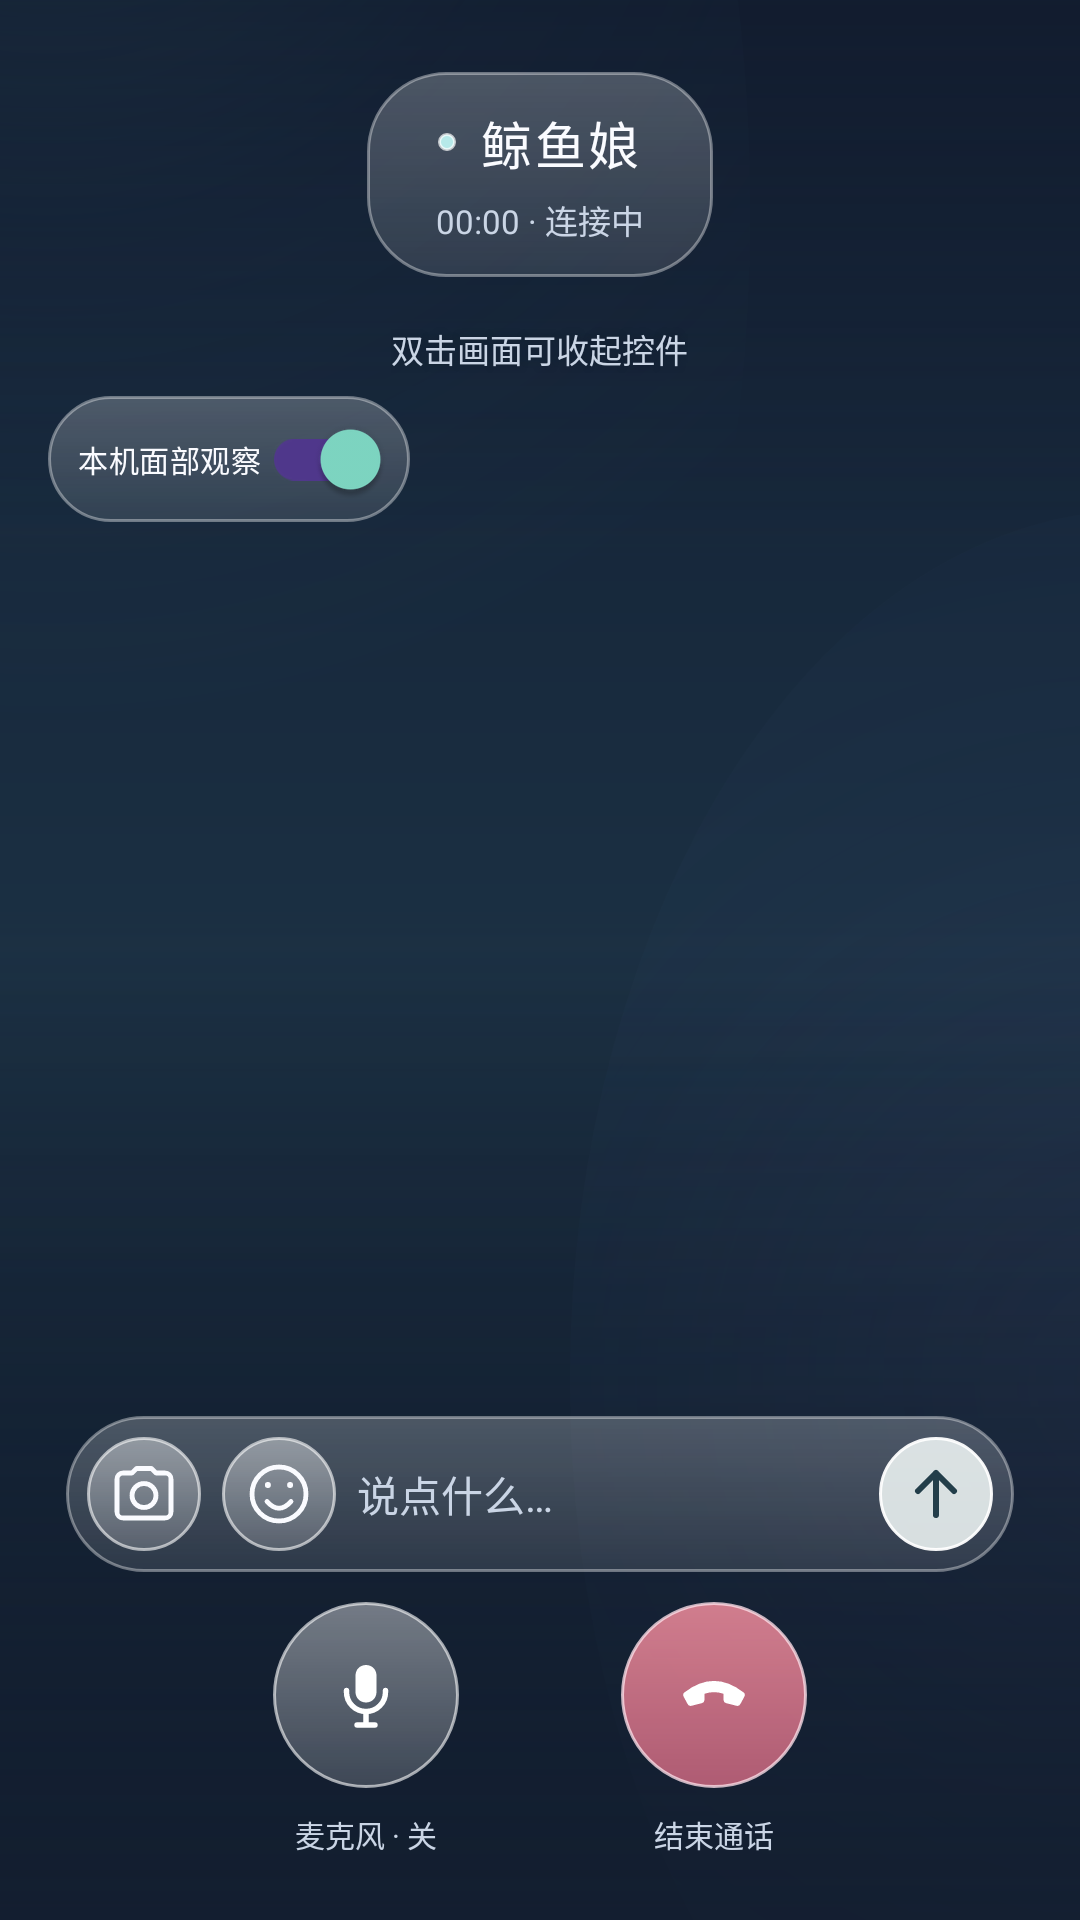

Named icons in this screenshot (1080×1920) and their centers, (x,y):
发送输入区的照片和文字: (936,1494)
拍照或选择照片，加入草稿: (144,1494)
选择表情或动作: (279,1494)
